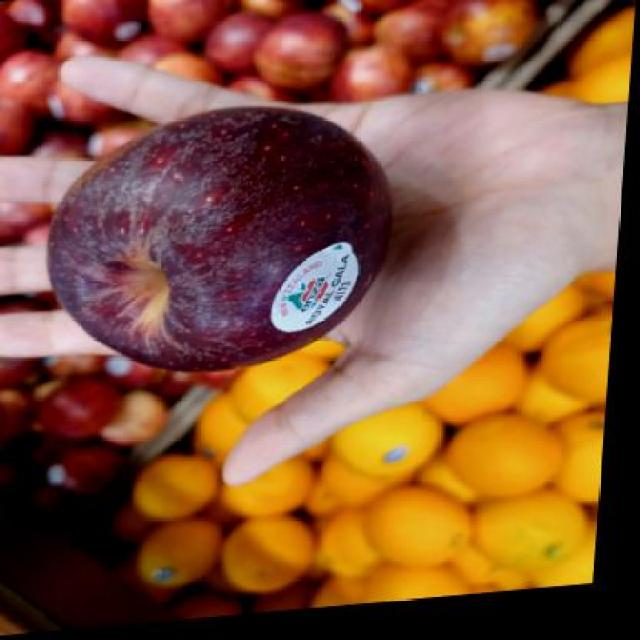Fresh Apple: (37, 109, 388, 391)
